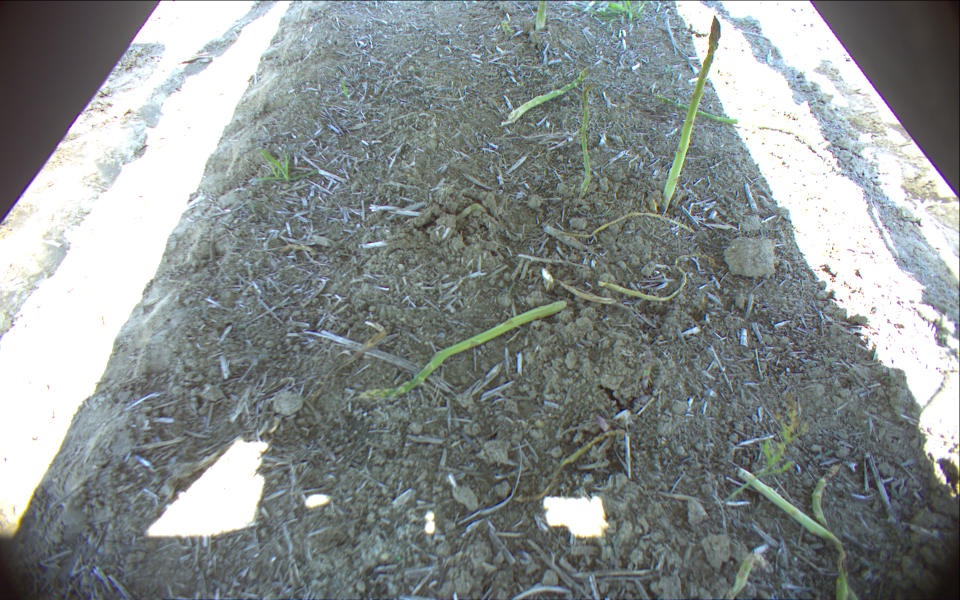aspa: (349, 298, 569, 406), (735, 472, 852, 600), (663, 13, 722, 209), (597, 252, 705, 303), (502, 68, 591, 129), (558, 211, 696, 245), (654, 94, 740, 125), (814, 464, 844, 525), (729, 547, 758, 600), (579, 85, 591, 200), (534, 1, 548, 30), (502, 20, 513, 38)
